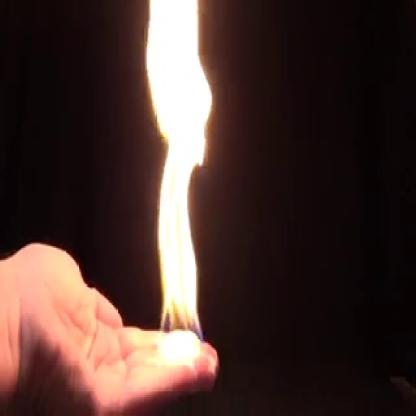fire: (140, 0, 218, 360)
